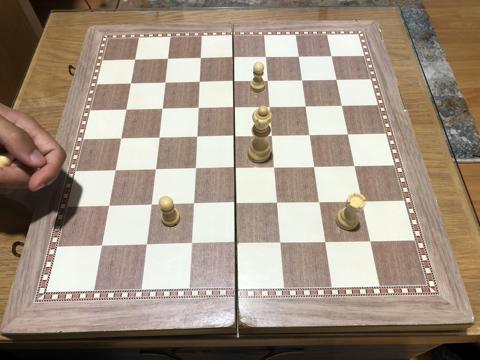xcorner: (327, 51, 339, 63), (294, 51, 306, 63), (262, 52, 274, 64), (229, 52, 241, 64), (196, 53, 208, 65), (163, 53, 175, 65), (332, 74, 344, 86), (298, 75, 310, 87), (229, 76, 241, 88), (160, 77, 172, 89), (337, 100, 349, 112), (301, 101, 313, 113), (229, 102, 241, 114), (193, 103, 205, 115), (157, 103, 169, 115), (121, 104, 133, 116), (343, 129, 355, 141), (230, 131, 242, 143), (154, 132, 166, 144), (116, 133, 128, 145), (270, 162, 282, 174), (230, 163, 242, 175), (190, 163, 202, 175), (150, 164, 162, 176), (110, 165, 122, 177), (356, 196, 368, 208), (188, 199, 200, 211), (146, 200, 158, 212), (364, 235, 376, 247), (320, 236, 332, 248), (275, 237, 287, 249), (231, 238, 243, 250), (186, 239, 198, 251), (97, 240, 109, 252), (130, 54, 142, 65), (264, 75, 275, 87), (195, 77, 207, 88), (126, 78, 138, 89), (265, 102, 277, 113), (305, 130, 317, 141), (268, 130, 279, 142), (192, 132, 204, 143), (349, 161, 361, 172), (310, 161, 321, 173), (314, 197, 326, 208), (273, 197, 284, 209), (231, 198, 242, 210), (104, 201, 116, 212), (142, 240, 153, 251)
